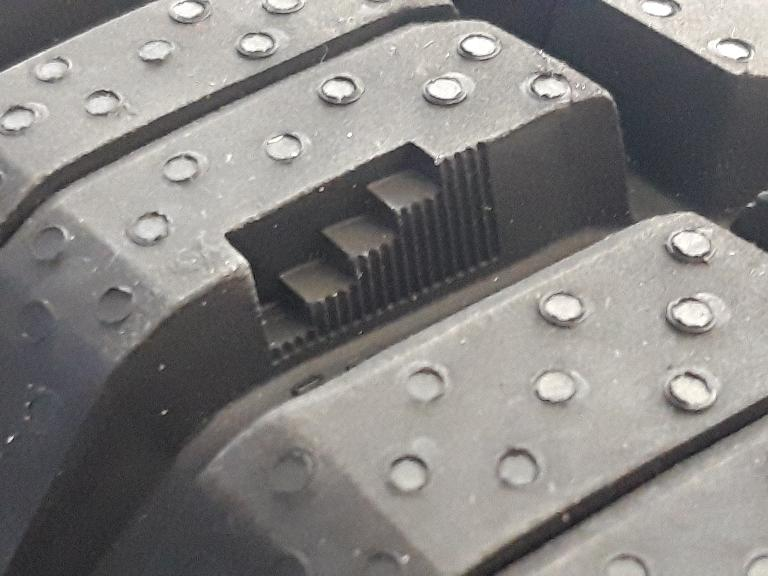temoin:100: (220, 130, 509, 374)
